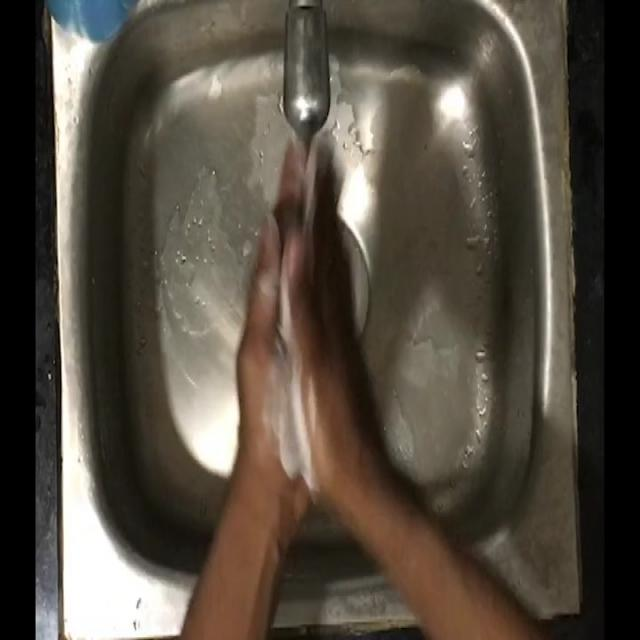step_1: (228, 118, 370, 462)
